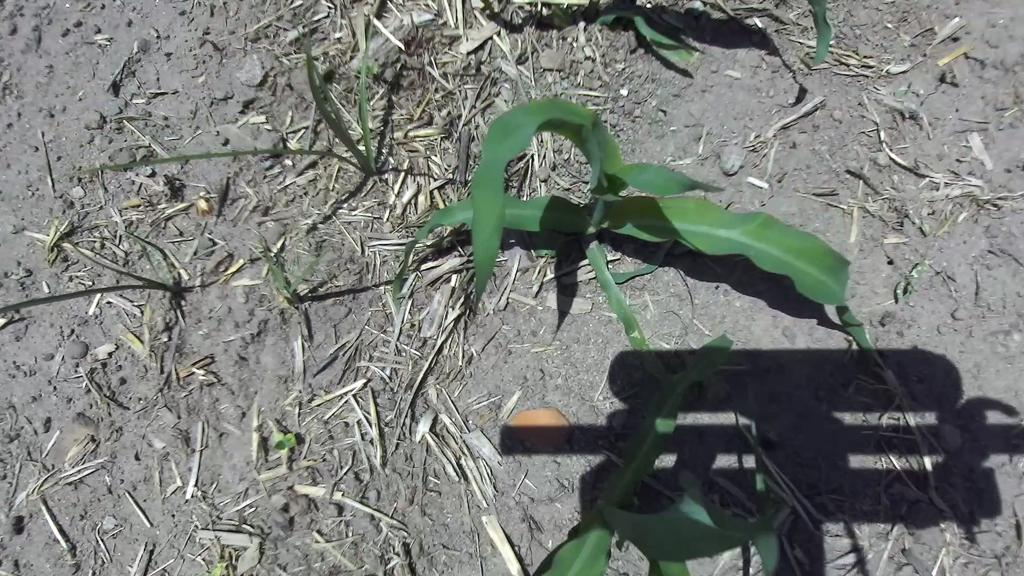BroWeed: (890, 253, 931, 305), (266, 423, 302, 459), (356, 57, 385, 80), (212, 557, 230, 576)
Maize: (388, 66, 922, 452), (541, 334, 777, 576)
NarWeed: (74, 16, 378, 184), (0, 216, 171, 310), (251, 241, 323, 301)
